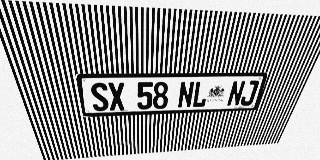5: (137, 82, 153, 110)
8: (153, 82, 169, 109)
J: (239, 80, 260, 106)
L: (191, 81, 210, 108)
N: (226, 81, 246, 106), (177, 81, 195, 108)
S: (89, 83, 109, 111)
X: (107, 82, 125, 111)
